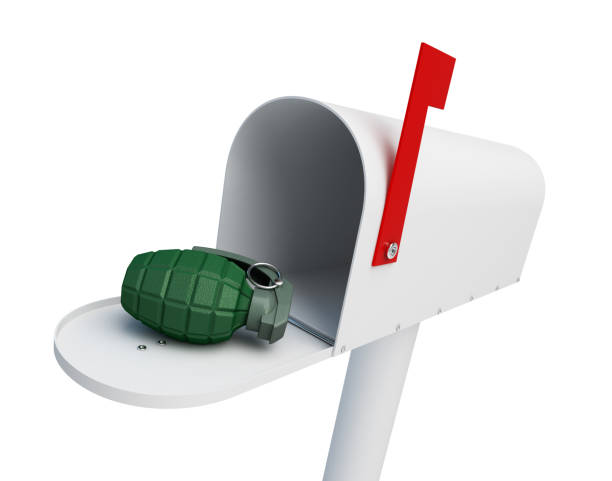e1: (123, 244, 294, 344)
